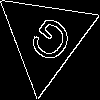G: (21, 13, 76, 74)
